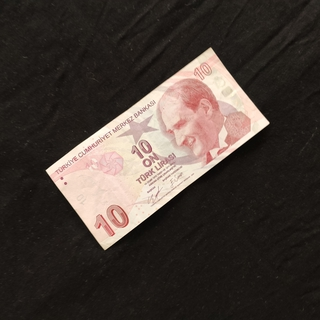10TLFront: (43, 45, 271, 252)
